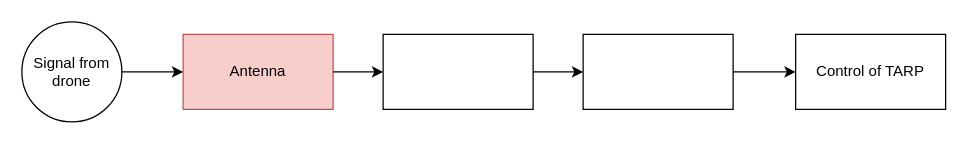
Image size: 968x144. Some labels were removed from this diagram. Each missing label, with the centre of its shape:
Direction of arrival algorithm: (x=657, y=71)
RF front end: (x=457, y=71)
